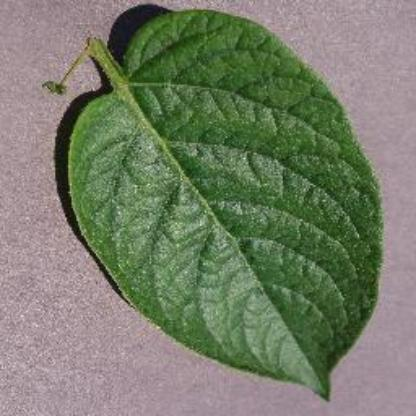Healthy-plant: (49, 10, 390, 408)
